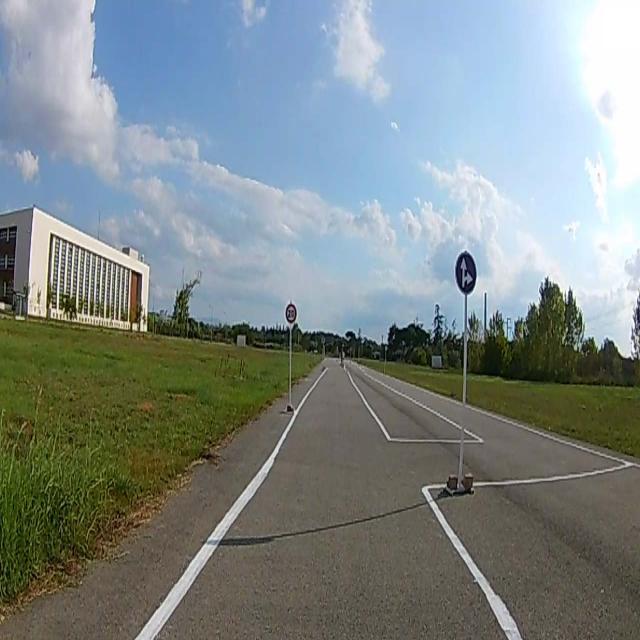20: (286, 305, 295, 323)
ilerisag: (456, 253, 476, 290)
